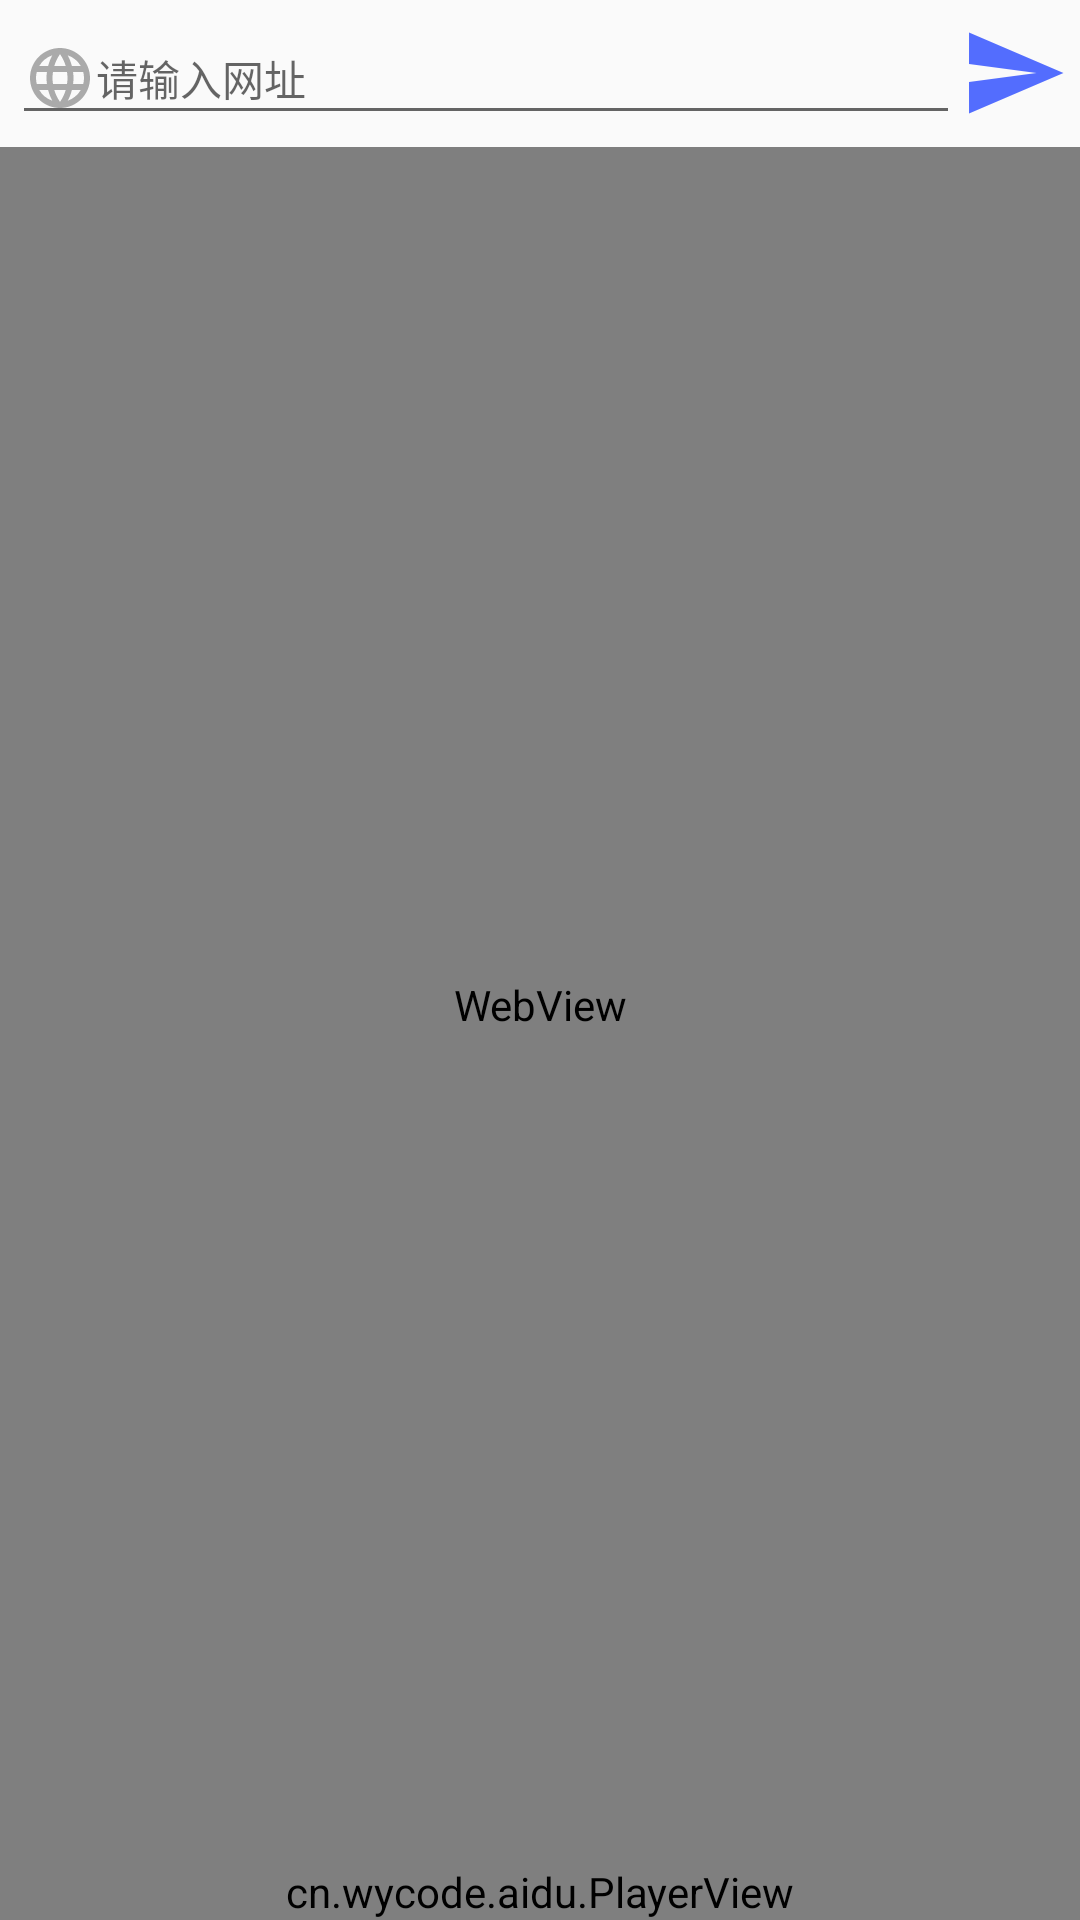

Screen size 1080px x 1920px. Icon name, then its box in pixels as bbox=[x1, y1, x2, y2]:
send: bbox=[969, 32, 1063, 114]
